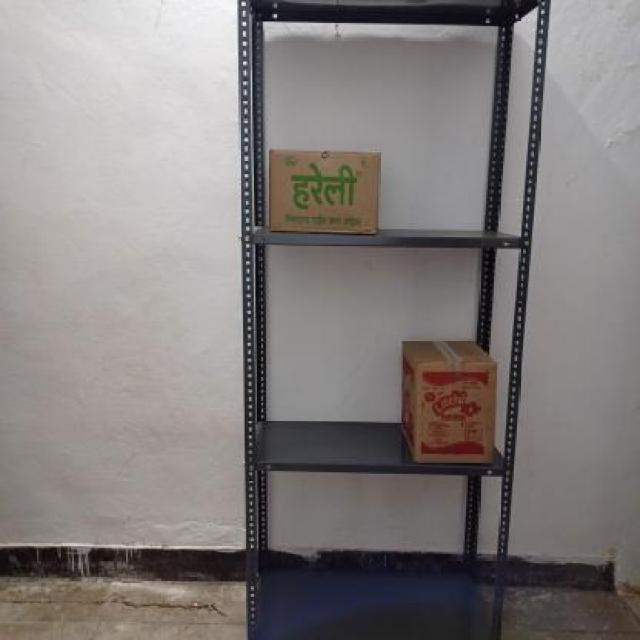box: (267, 151, 381, 232), (413, 359, 495, 464)
